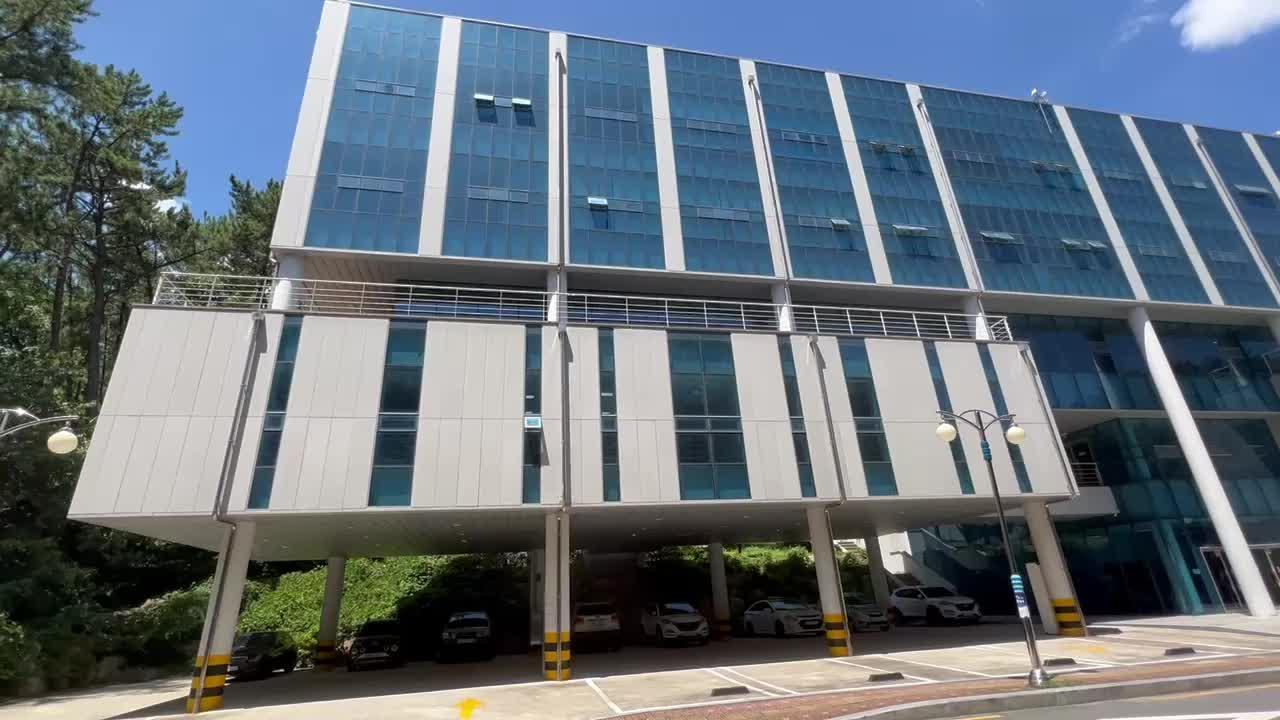building: (151, 6, 1280, 629)
